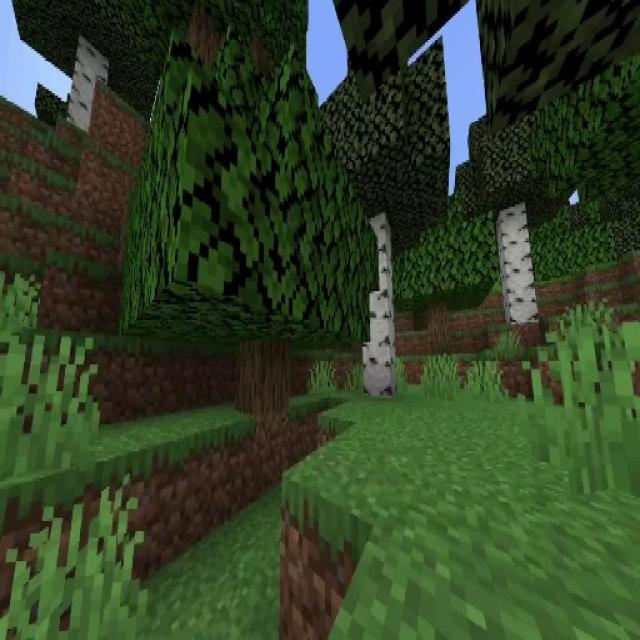birch: (307, 40, 450, 394), (459, 108, 568, 331), (15, 0, 166, 139), (393, 190, 500, 349)
birch_log: (360, 217, 394, 395), (497, 202, 540, 331), (69, 34, 104, 134)
oak: (129, 22, 370, 412)
oak_log: (237, 335, 289, 412), (429, 303, 451, 356)
